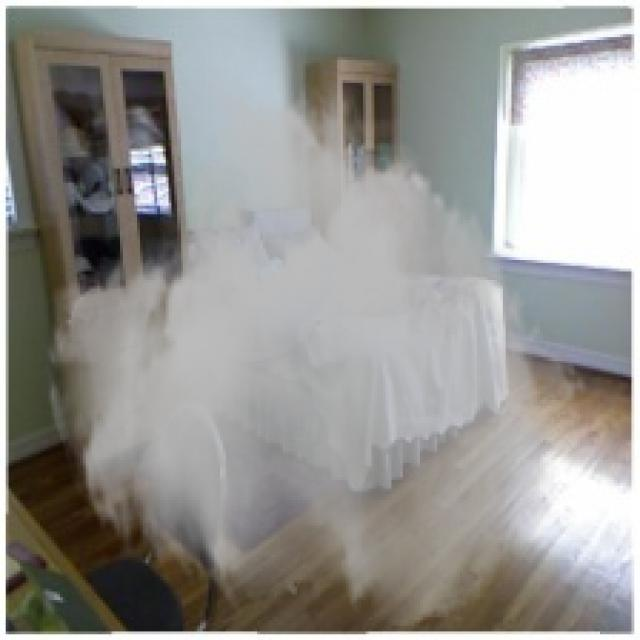smoke: (43, 66, 588, 631)
